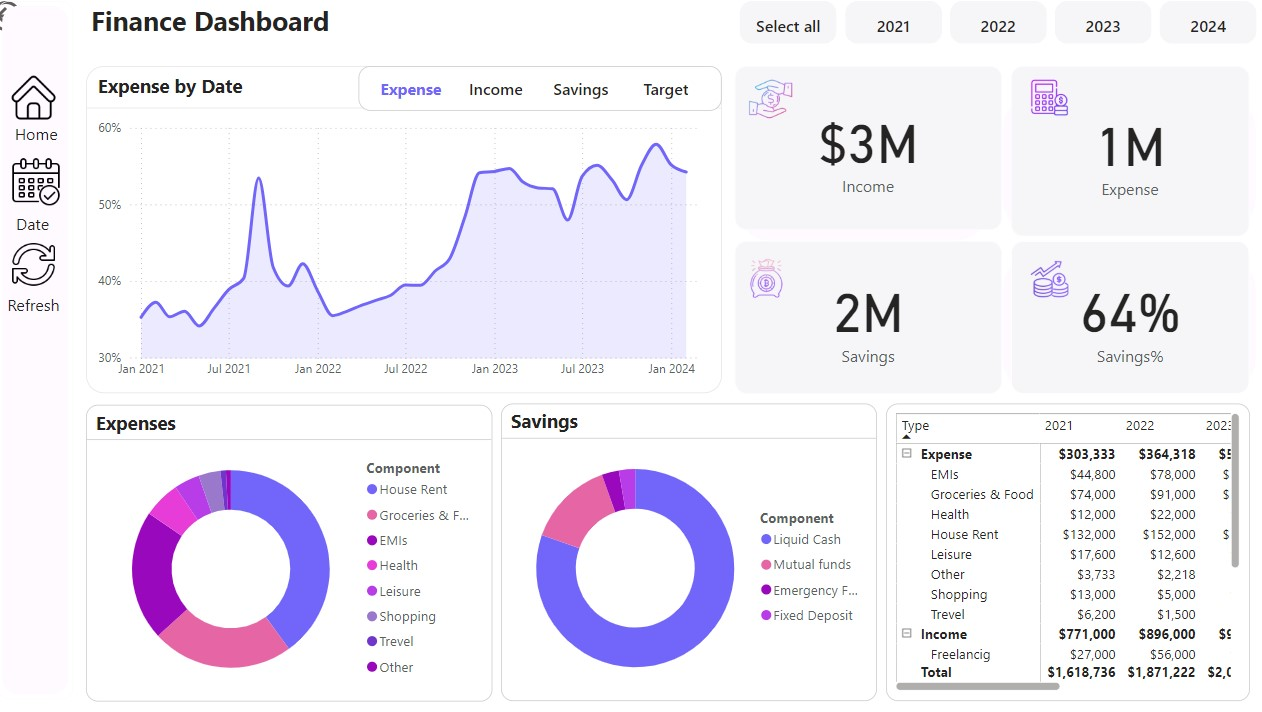

Layout of this report page (visuals, bound fields, positions):
{"tool":"powerbi","page":{"name":"Dashboard","canvas":[1280,720],"ordinal":0},"visuals":[{"type":"shape","box":[750,258.8,253.8,138.8],"z":0},{"type":"shape","box":[1016.2,258.8,253.8,138.8],"z":1000},{"type":"shape","box":[750,106.2,253.8,138.8],"z":2000},{"type":"shape","box":[1016.2,98.8,253.8,138.8],"z":3000},{"type":"card","fields":{"Values":["Dataset.Income"]},"box":[748.8,70,267.5,163.8],"z":4000},{"type":"actionButton","box":[0,0,100,40],"z":5000},{"type":"card","fields":{"Values":["Dataset.Expense"]},"box":[1025,70,238.8,170],"z":6000},{"type":"card","fields":{"Values":["Dataset.Savings"]},"box":[748.8,245,267.5,152.5],"z":7000},{"type":"card","fields":{"Values":["Dataset.Savings%"]},"box":[1025,245,238.8,152.5],"z":8000},{"type":"advancedSlicerVisual","fields":{"Values":["Dataset.Year"]},"box":[749.2,0,530.8,53.1],"z":9000},{"type":"donutChart","title":"Savings","fields":{"Category":["Dataset.Component"],"Y":["Dataset.Savings"]},"box":[515,407.5,376.2,297.5],"z":10000},{"type":"donutChart","title":"Expenses","fields":{"Category":["Dataset.Component"],"Y":["Dataset.Expense"]},"box":[100.1,409,406.6,296.8],"z":11000},{"type":"pivotTable","fields":{"Values":["Dataset.Total_Value"],"Rows":["Dataset.Type","Dataset.Component"],"Columns":["Dataset.Year"]},"box":[900,407.5,363.8,297.5],"z":12000},{"type":"areaChart","fields":{"Category":["Dataset.Date.Variation.Date Hierarchy.Year"],"Y":["Dataset.Line_Chart_Measures"]},"box":[100,70,636.2,327.5],"z":13000},{"type":"advancedSlicerVisual","fields":{"Values":["Line_Selection_Table.Type"]},"box":[372.8,70,363.1,44.6],"z":14000},{"type":"textbox","box":[100,1.2,636.2,51.2],"z":15000},{"type":"shape","box":[11.2,5,76.2,698.8],"z":16000},{"type":"image","box":[20.5,70,55.5,62.7],"z":17000},{"type":"image","box":[1040,258.2,47.1,48.3],"z":18000},{"type":"image","box":[1040,70,47.1,62.7],"z":19000},{"type":"actionButton","box":[10.9,152,76,68.8],"z":20000},{"type":"textbox","box":[24.1,120.6,76,39.8],"z":22000},{"type":"textbox","box":[25.3,211.1,97.7,35],"z":23000},{"type":"textbox","box":[15.7,292,97.7,35],"z":24000},{"type":"actionButton","box":[10.9,238.9,76,57.9],"z":25000},{"type":"image","box":[20.5,154.4,60.3,61.5],"z":26000},{"type":"image","box":[20.5,240.1,55.5,56.7],"z":27000},{"type":"image","box":[750.4,257,61.5,49.5],"z":28000},{"type":"image","box":[757.6,72.4,54.3,60.3],"z":29000}]}

Visuals, with their boxes on the page's 1280x720 design canvas (x1, y1, x2, y2). These are canvas units, not pixel positions in the 1262x712 screenshot, which may show the page scaled, cropped or inside an application window:
shape: 750/259/1004/398
shape: 1016/259/1270/398
shape: 750/106/1004/245
shape: 1016/99/1270/238
card - Dataset.Income: 749/70/1016/234
actionButton: 0/0/100/40
card - Dataset.Expense: 1025/70/1264/240
card - Dataset.Savings: 749/245/1016/398
card - Dataset.Savings%: 1025/245/1264/398
advancedSlicerVisual - Dataset.Year: 749/0/1280/53
"Savings" donutChart: 515/408/891/705
"Expenses" donutChart: 100/409/507/706
pivotTable - Dataset.Total_Value x Dataset.Type: 900/408/1264/705
areaChart - Dataset.Date.Variation.Date Hierarchy.Year x Dataset.Line_Chart_Measures: 100/70/736/398
advancedSlicerVisual - Line_Selection_Table.Type: 373/70/736/115
textbox: 100/1/736/52
shape: 11/5/87/704
image: 20/70/76/133
image: 1040/258/1087/306
image: 1040/70/1087/133
actionButton: 11/152/87/221
textbox: 24/121/100/160
textbox: 25/211/123/246
textbox: 16/292/113/327
actionButton: 11/239/87/297
image: 20/154/81/216
image: 20/240/76/297
image: 750/257/812/306
image: 758/72/812/133
